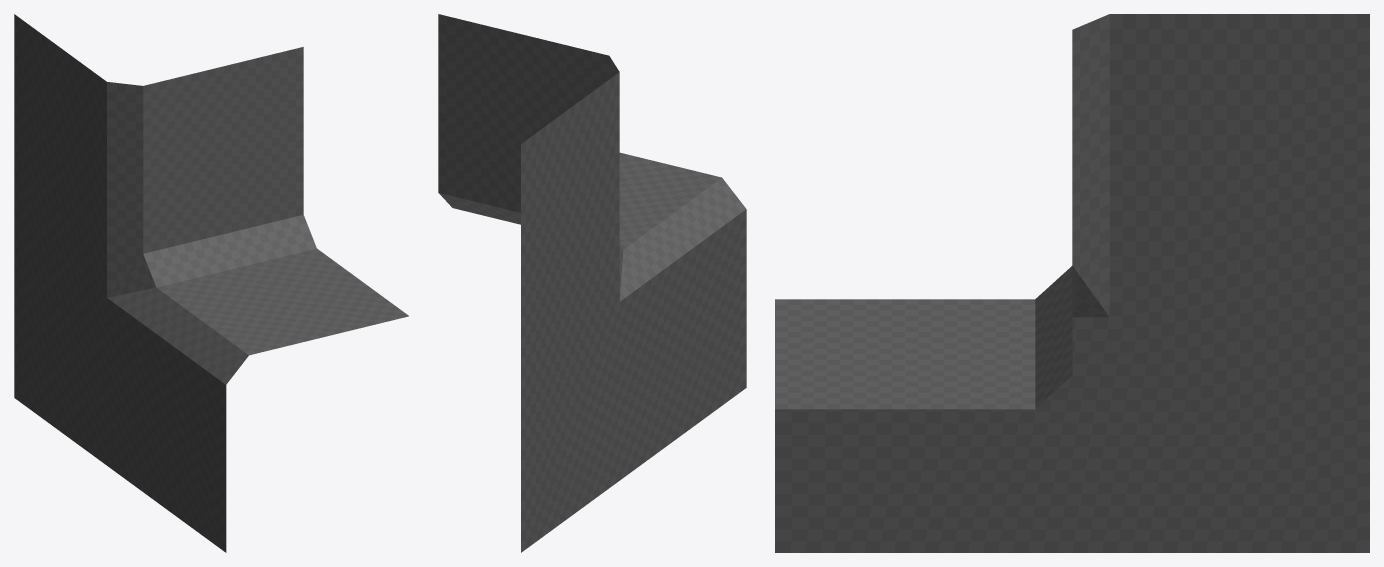
The picture shows the model from 3 angles, left to right: view 1: azimuth 30°, elevation 25°; view 2: azimuth 150°, elevation 25°; view 3: azimuth 270°, elevation 25°; orthographic projection. The views are drawn at different scales.
Parts seen in each view (by area): view 1: CubeDownBackRight5; view 2: CubeDownBackRight5; view 3: CubeDownBackRight5.
Part boxes in pixels (x1=…): CubeDownBackRight5: x1=14, y1=14, x2=408, y2=552; CubeDownBackRight5: x1=438, y1=14, x2=746, y2=552; CubeDownBackRight5: x1=775, y1=14, x2=1369, y2=552.
Size of the model in its own units: 2 by 4 by 4.
Materials: 1 (1 with a texture image).
